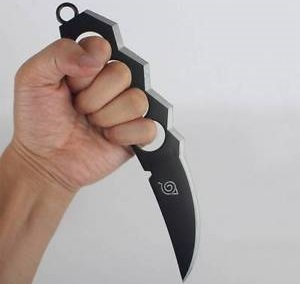knife: (68, 59, 200, 284)
